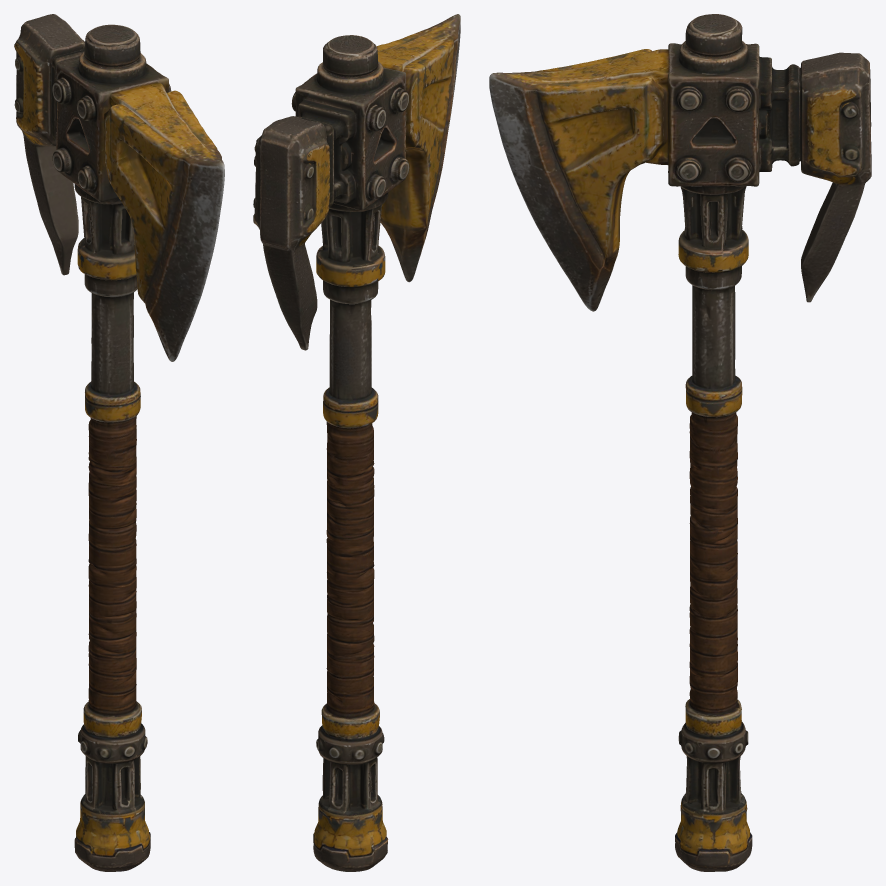
3 renders of one model, left to right at view 1: azimuth 30°, elevation 25°; view 2: azimuth 150°, elevation 25°; view 3: azimuth 270°, elevation 25°, orthographic. The views are drawn at different scales.
Visible parts, largest first — view 1: tripo_node_73e02b4d-33ed-410a-ad11-b5a3b8096d49; view 2: tripo_node_73e02b4d-33ed-410a-ad11-b5a3b8096d49; view 3: tripo_node_73e02b4d-33ed-410a-ad11-b5a3b8096d49.
Part boxes in pixels (x1,y1,x2,y2): tripo_node_73e02b4d-33ed-410a-ad11-b5a3b8096d49: [14, 14, 224, 871]; tripo_node_73e02b4d-33ed-410a-ad11-b5a3b8096d49: [253, 14, 460, 871]; tripo_node_73e02b4d-33ed-410a-ad11-b5a3b8096d49: [489, 14, 871, 871].
Size of the model in its own units: 0.1092 by 1 by 0.4142.
Materials: 1 (1 with a texture image).
